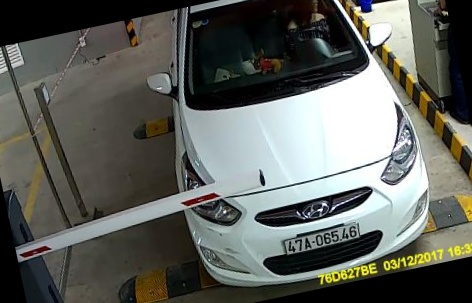plate: (278, 223, 370, 249)
